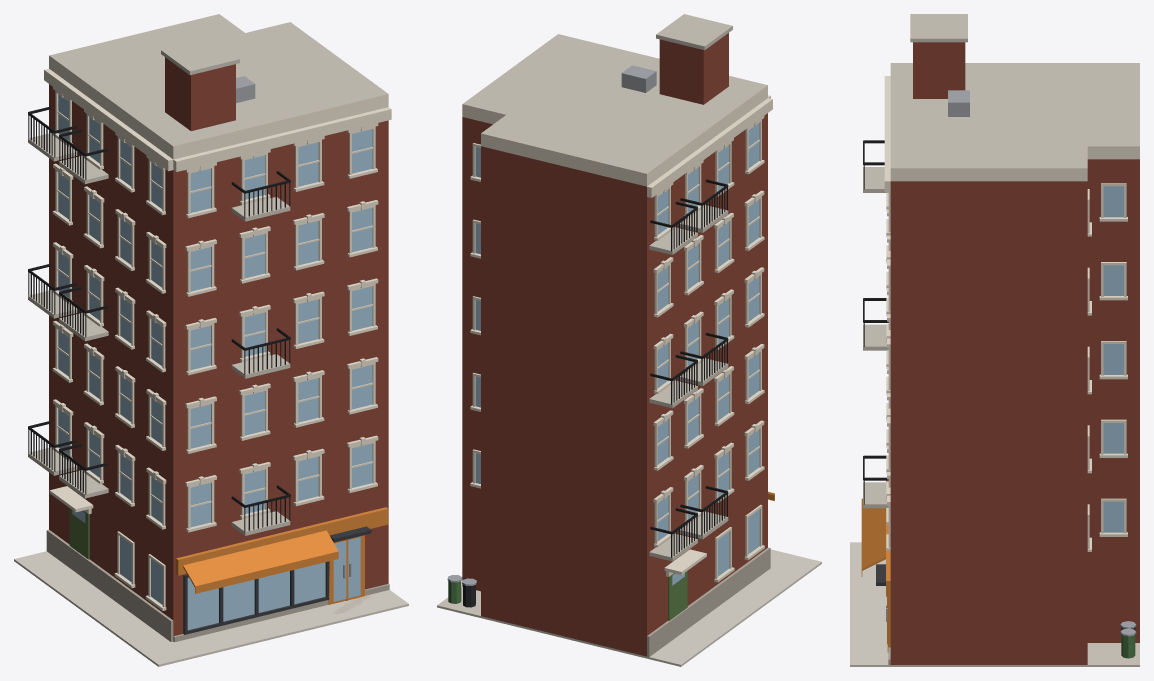
The model's file is Blok_kose_6k_3_Hafif.fbx.
3 renders of one model, left to right at view 1: azimuth 30°, elevation 25°; view 2: azimuth 150°, elevation 25°; view 3: azimuth 270°, elevation 25°, orthographic. The views are drawn at different scales.
Visible parts, largest first — view 1: Blok_kose_6k_3_Hafif; view 2: Blok_kose_6k_3_Hafif; view 3: Blok_kose_6k_3_Hafif.
Part boxes in pixels (x1=…): Blok_kose_6k_3_Hafif: x1=14, y1=14, x2=408, y2=666; Blok_kose_6k_3_Hafif: x1=437, y1=14, x2=821, y2=666; Blok_kose_6k_3_Hafif: x1=850, y1=14, x2=1139, y2=666.
Bounding box in the file's own units: 10 × 21.37 × 10.
